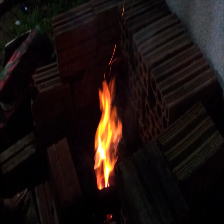fire_h: (94, 74, 122, 190)
fire_l: (108, 44, 115, 65), (121, 6, 125, 16), (108, 213, 112, 217)
